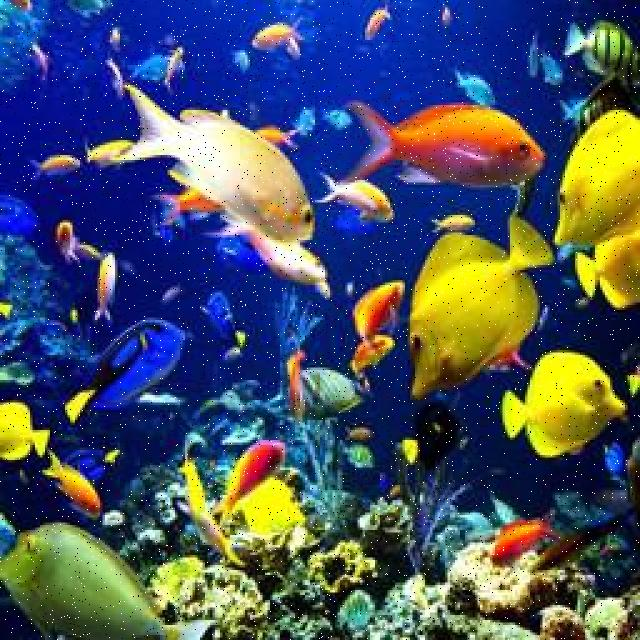fish: (110, 87, 315, 238), (407, 214, 558, 400), (0, 521, 218, 638), (344, 101, 548, 189), (58, 317, 187, 421), (503, 353, 629, 458), (556, 108, 638, 247), (209, 222, 330, 283), (534, 509, 638, 570), (212, 441, 284, 529), (563, 20, 638, 88), (403, 398, 469, 475), (577, 230, 638, 310), (234, 476, 308, 541), (352, 280, 405, 365), (296, 367, 377, 422), (317, 172, 395, 224), (494, 510, 560, 569), (43, 454, 101, 518), (202, 290, 245, 363), (1, 400, 47, 462), (197, 512, 246, 565), (158, 189, 225, 226), (351, 337, 396, 389), (252, 17, 312, 49), (90, 253, 116, 322), (177, 462, 205, 522), (453, 72, 496, 105), (32, 155, 81, 182), (56, 221, 78, 264)
reefs: (446, 541, 593, 614), (149, 556, 272, 638), (303, 539, 378, 597), (340, 593, 372, 630)
